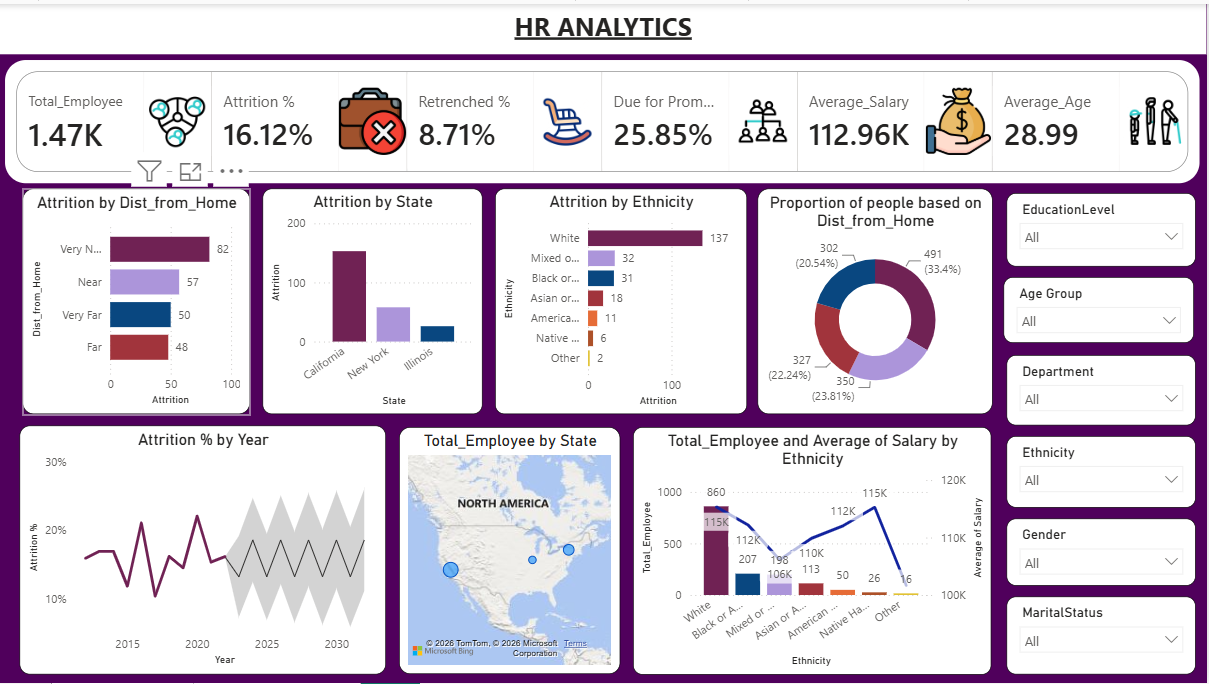

The dashboard page shown, as its layout file describes it:
{"tool":"powerbi","page":{"name":"Demography","canvas":[1280,720],"ordinal":1},"visuals":[{"type":"cardVisual","fields":{"Data":["all measure.Total_Employee","all measure.Attrition %","all measure.Retrenched %","all measure.Due for Promotion%","all measure.Average_Salary","all measure.Average_Age"]},"box":[0,54.1,1278.9,141.6],"z":0},{"type":"textbox","box":[0,0,1279.2,53.4],"z":1000},{"type":"slicer","fields":{"Values":["EducationLevel.EducationLevel"]},"box":[1067.1,200.8,200.8,77.7],"z":2000},{"type":"slicer","fields":{"Values":["Employee.Age Group "]},"box":[1064.6,290,201.9,69.8],"z":3000},{"type":"slicer","fields":{"Values":["Employee.Department"]},"box":[1067.1,372.4,200.8,74.5],"z":4000},{"type":"slicer","fields":{"Values":["Employee.Ethnicity"]},"box":[1067.1,458.2,200.8,76.1],"z":5000},{"type":"slicer","fields":{"Values":["Employee.Gender"]},"box":[1067.1,545.7,200.8,71.2],"z":6000},{"type":"slicer","fields":{"Values":["Employee.MaritalStatus"]},"box":[1067.1,628.3,200.8,82.6],"z":7000},{"type":"barChart","fields":{"Category":["Employee.Dist_from_Home"],"Y":["all measure.Attrition"]},"box":[24.3,195.9,241.3,239.6],"z":8000},{"type":"donutChart","title":"Proportion of people based on Dist_from_Home ","fields":{"Category":["Employee.Dist_from_Home"],"Y":["CountNonNull(Employee.Dist_from_Home)"]},"box":[803.1,195.9,249.4,239.6],"z":9000},{"type":"columnChart","fields":{"Category":["Employee.State"],"Y":["all measure.Attrition"]},"box":[278.5,195.9,233.2,239.6],"z":10000},{"type":"map","fields":{"Category":["Employee.State"],"Size":["all measure.Total_Employee"]},"box":[422.6,448.5,234.8,262.3],"z":11000},{"type":"barChart","fields":{"Category":["Employee.Ethnicity"],"Y":["all measure.Attrition"]},"box":[524.6,195.9,267.2,239.6],"z":12000},{"type":"lineStackedColumnComboChart","fields":{"Y":["all measure.Total_Employee"],"Category":["Employee.Ethnicity"],"Y2":["Avg(Employee.Salary)"]},"box":[671.8,447.9,380,262.5],"z":13000},{"type":"lineChart","fields":{"Y":["all measure.Attrition %"],"Category":["Calender.Date.Variation.Date Hierarchy.Year"]},"box":[21,446.9,388.6,263.9],"z":14000}]}

Visuals, with their boxes in screenshot pixels (x1, y1, x2, y2), scaled from the page's 1280x720 canvas onto the 1209x684 screenshot:
cardVisual - all measure.Total_Employee x all measure.Attrition %: detection(0, 51, 1208, 186)
textbox: detection(0, 0, 1208, 51)
slicer - EducationLevel.EducationLevel: detection(1008, 191, 1198, 265)
slicer - Employee.Age Group : detection(1006, 276, 1196, 342)
slicer - Employee.Department: detection(1008, 354, 1198, 425)
slicer - Employee.Ethnicity: detection(1008, 435, 1198, 508)
slicer - Employee.Gender: detection(1008, 518, 1198, 586)
slicer - Employee.MaritalStatus: detection(1008, 597, 1198, 675)
barChart - Employee.Dist_from_Home x all measure.Attrition: detection(23, 186, 251, 414)
"Proportion of people based on Dist_from_Home " donutChart: detection(759, 186, 994, 414)
columnChart - Employee.State x all measure.Attrition: detection(263, 186, 483, 414)
map - Employee.State x all measure.Total_Employee: detection(399, 426, 621, 675)
barChart - Employee.Ethnicity x all measure.Attrition: detection(496, 186, 748, 414)
lineStackedColumnComboChart - all measure.Total_Employee x Employee.Ethnicity: detection(635, 426, 993, 675)
lineChart - all measure.Attrition % x Calender.Date.Variation.Date Hierarchy.Year: detection(20, 425, 387, 675)
